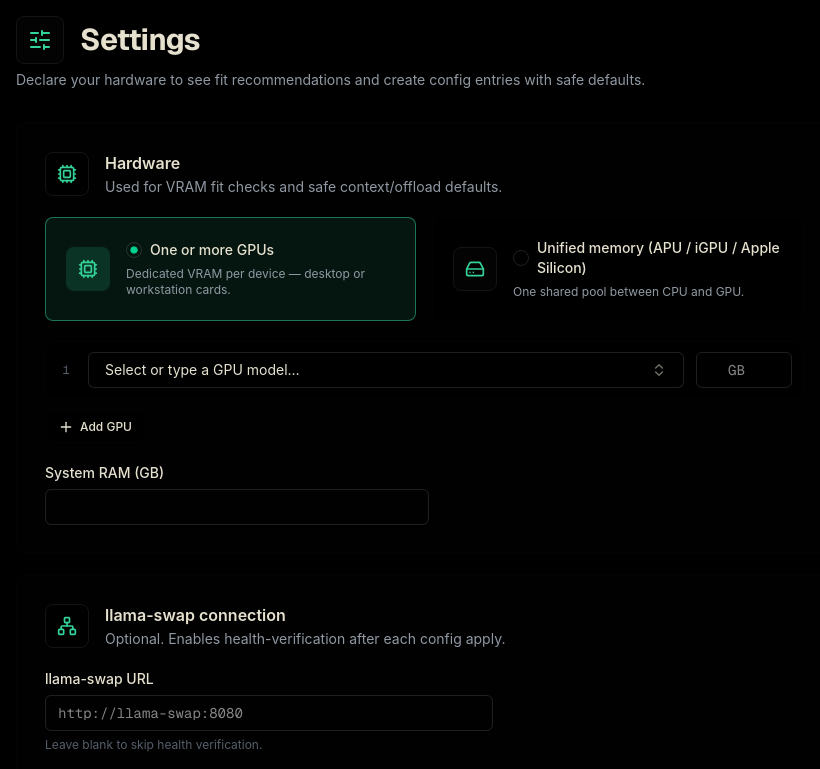
SettingsPage › switching to unified memory hides GPU rows and shows one shared-pool input
Expected: the number field named "vram" is shown, x1=696 y1=352 x2=792 y2=388
Step 1. Click the radio button named "unified memory" → (521, 258), box x1=513 y1=250 x2=529 y2=266
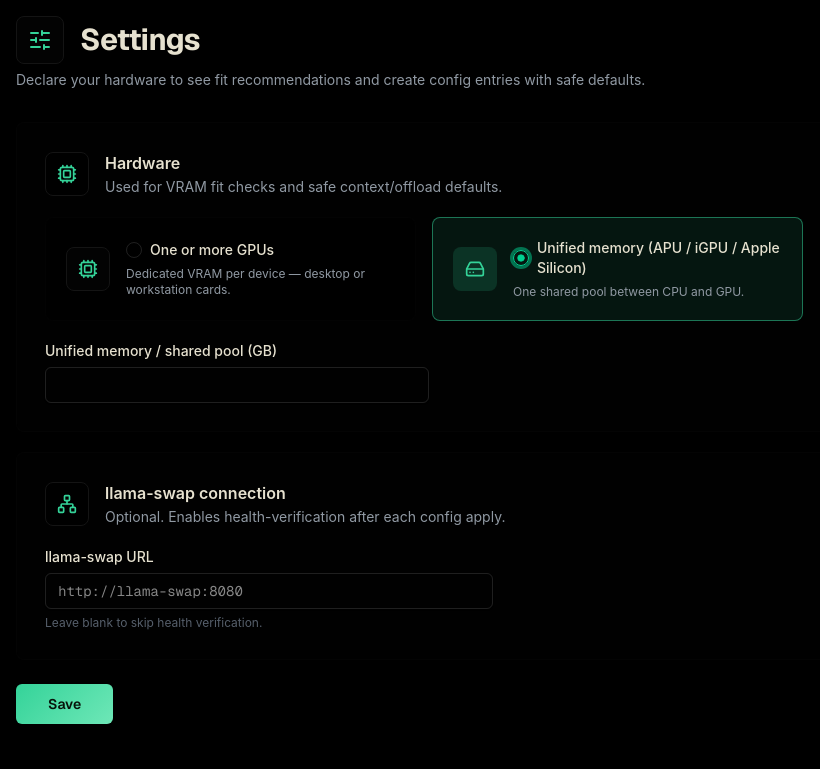
Expected: the button "Add GPU" is gone
Expected: the number field labelled "Unified memory / shared pool (GB)" is shown, x1=45 y1=367 x2=429 y2=403
